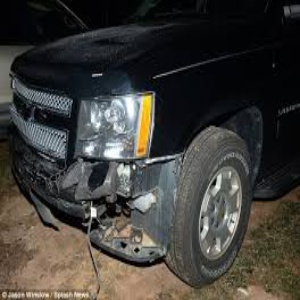bumper: (61, 166, 167, 259)
